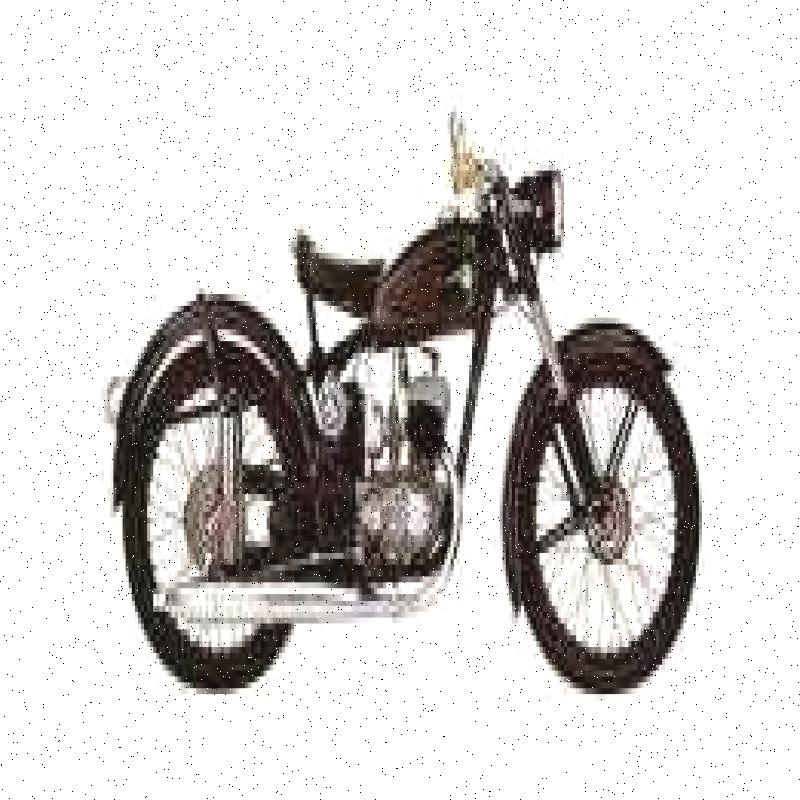bike: (95, 47, 702, 691)
